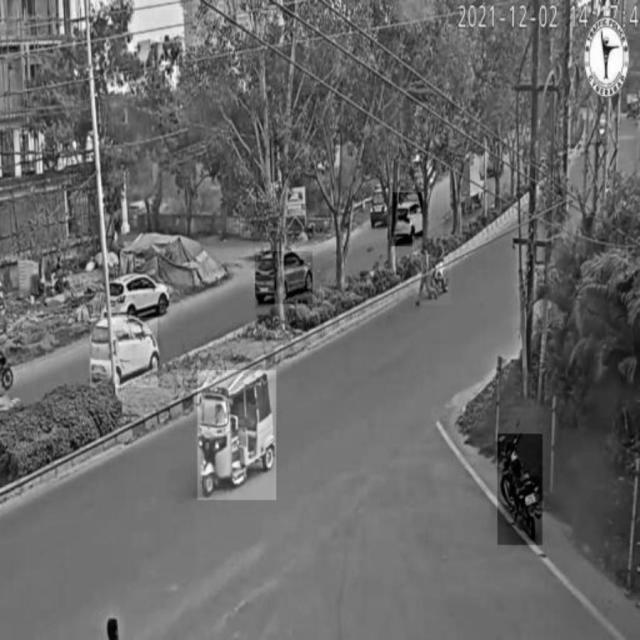accident: (412, 237, 450, 305)
vehicle: (198, 370, 276, 501), (89, 310, 157, 387), (498, 434, 543, 545), (109, 268, 169, 318), (255, 252, 312, 304), (392, 192, 422, 246)
